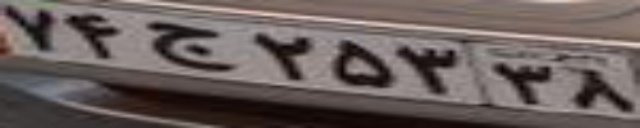2: (252, 31, 316, 79)
3: (396, 45, 461, 94), (493, 62, 562, 104)
4: (64, 13, 123, 60)
5: (325, 38, 390, 87)
7: (4, 5, 56, 52)
8: (565, 68, 632, 113)
jim: (141, 23, 234, 71)
